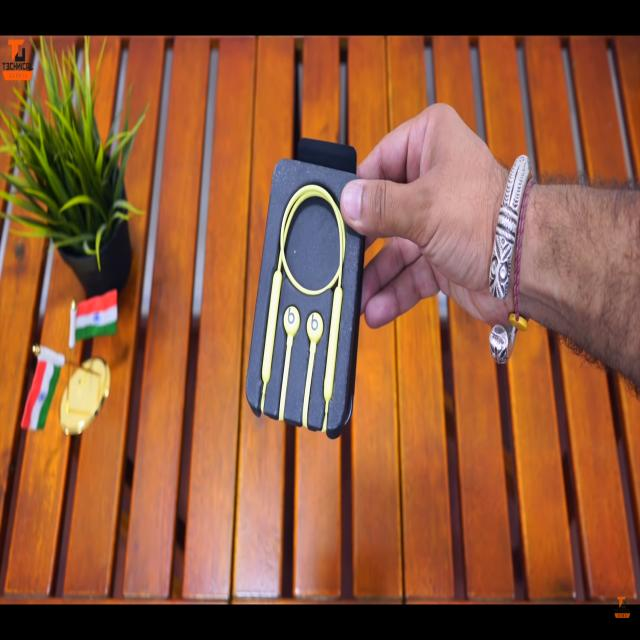Neckband: (260, 181, 346, 437)
